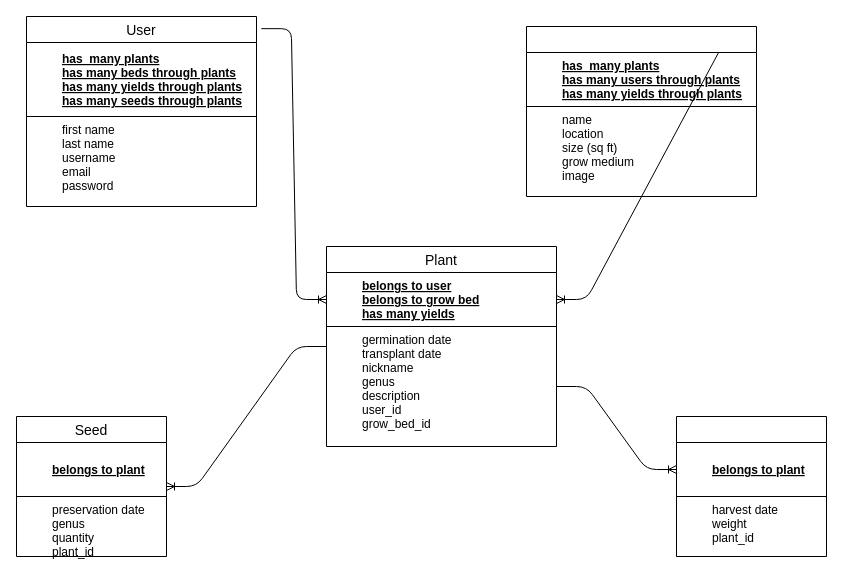
The diagram is 843 pixels wide and 575 high, and some of its shapes have lost their labels. The shapes that lost their labels are listed below. From the top down, each one's box as (x1, y1, x2, y2) in pixels, then its label:
(526, 26, 756, 196): Grow Bed
(676, 416, 826, 556): Yield
